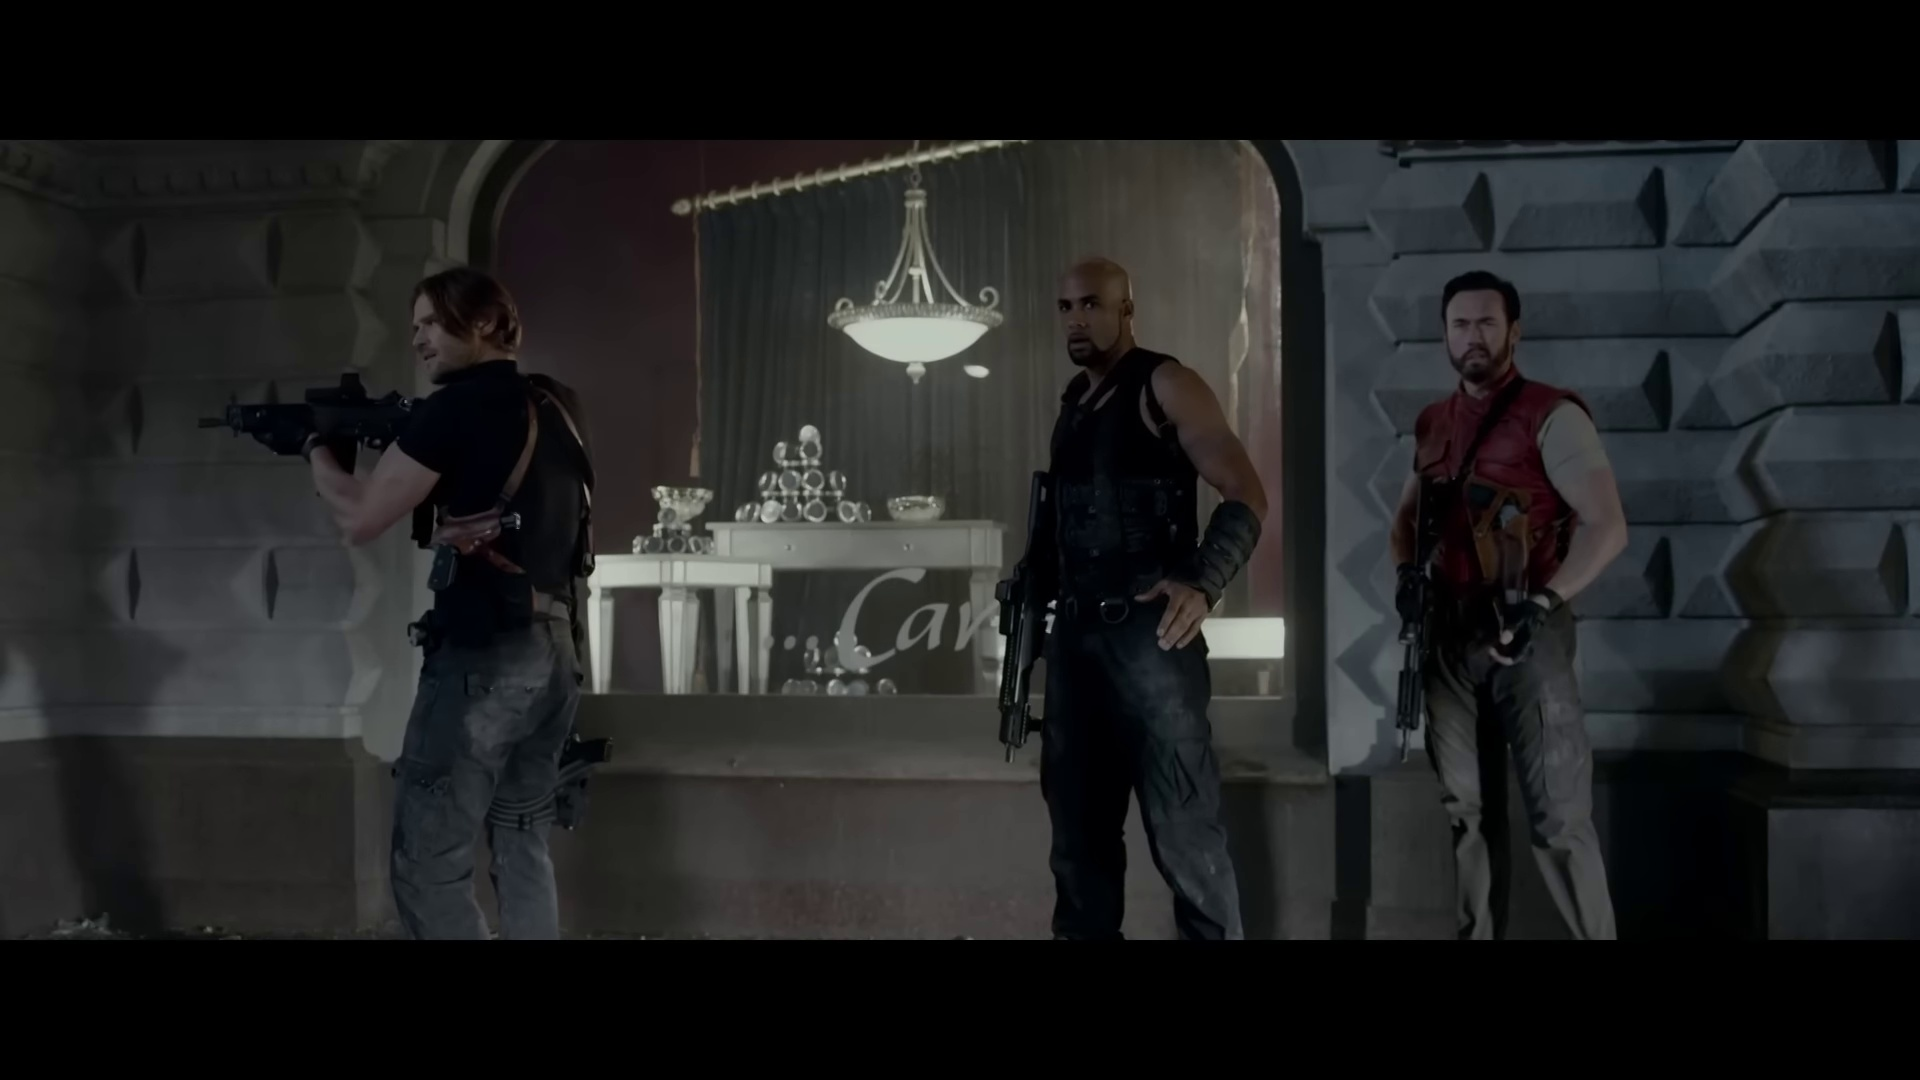gun: (198, 364, 427, 491), (982, 464, 1060, 765), (1387, 467, 1455, 770), (423, 505, 526, 589)
p_w_gun: (215, 265, 616, 943), (985, 251, 1271, 944), (1373, 266, 1634, 939)
